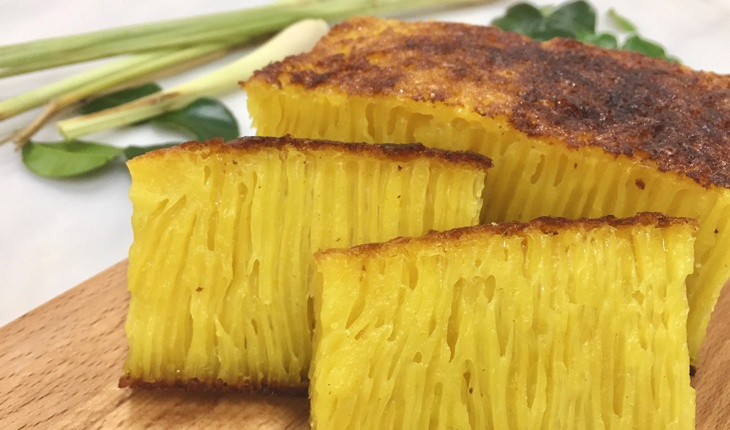bika_ambon: (116, 121, 523, 408), (291, 204, 710, 430)
